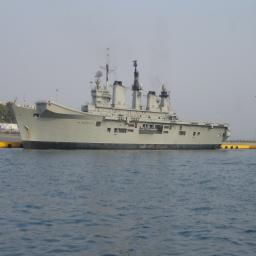Portanaves: (11, 47, 237, 152)
